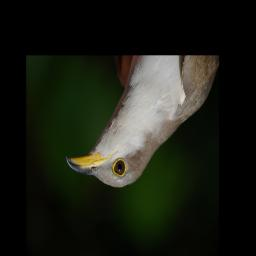Cuckoo: (66, 57, 219, 189)
